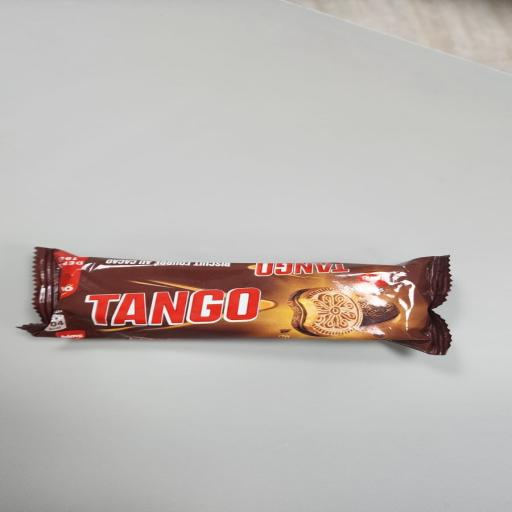tango: (6, 202, 489, 402)
